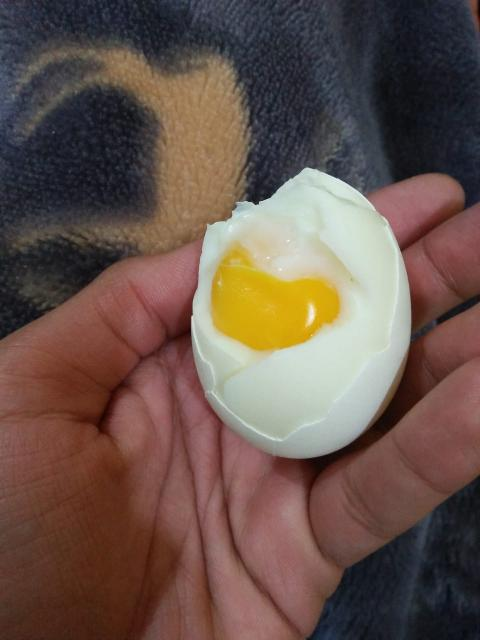Roto: (189, 167, 411, 458)
